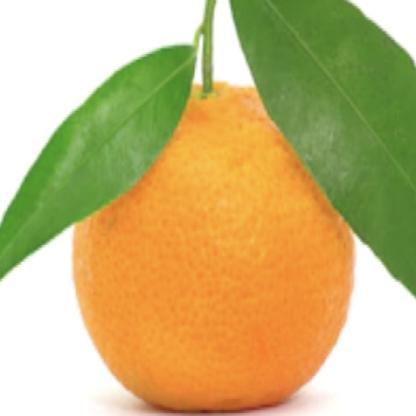fresh: (73, 51, 356, 416)
